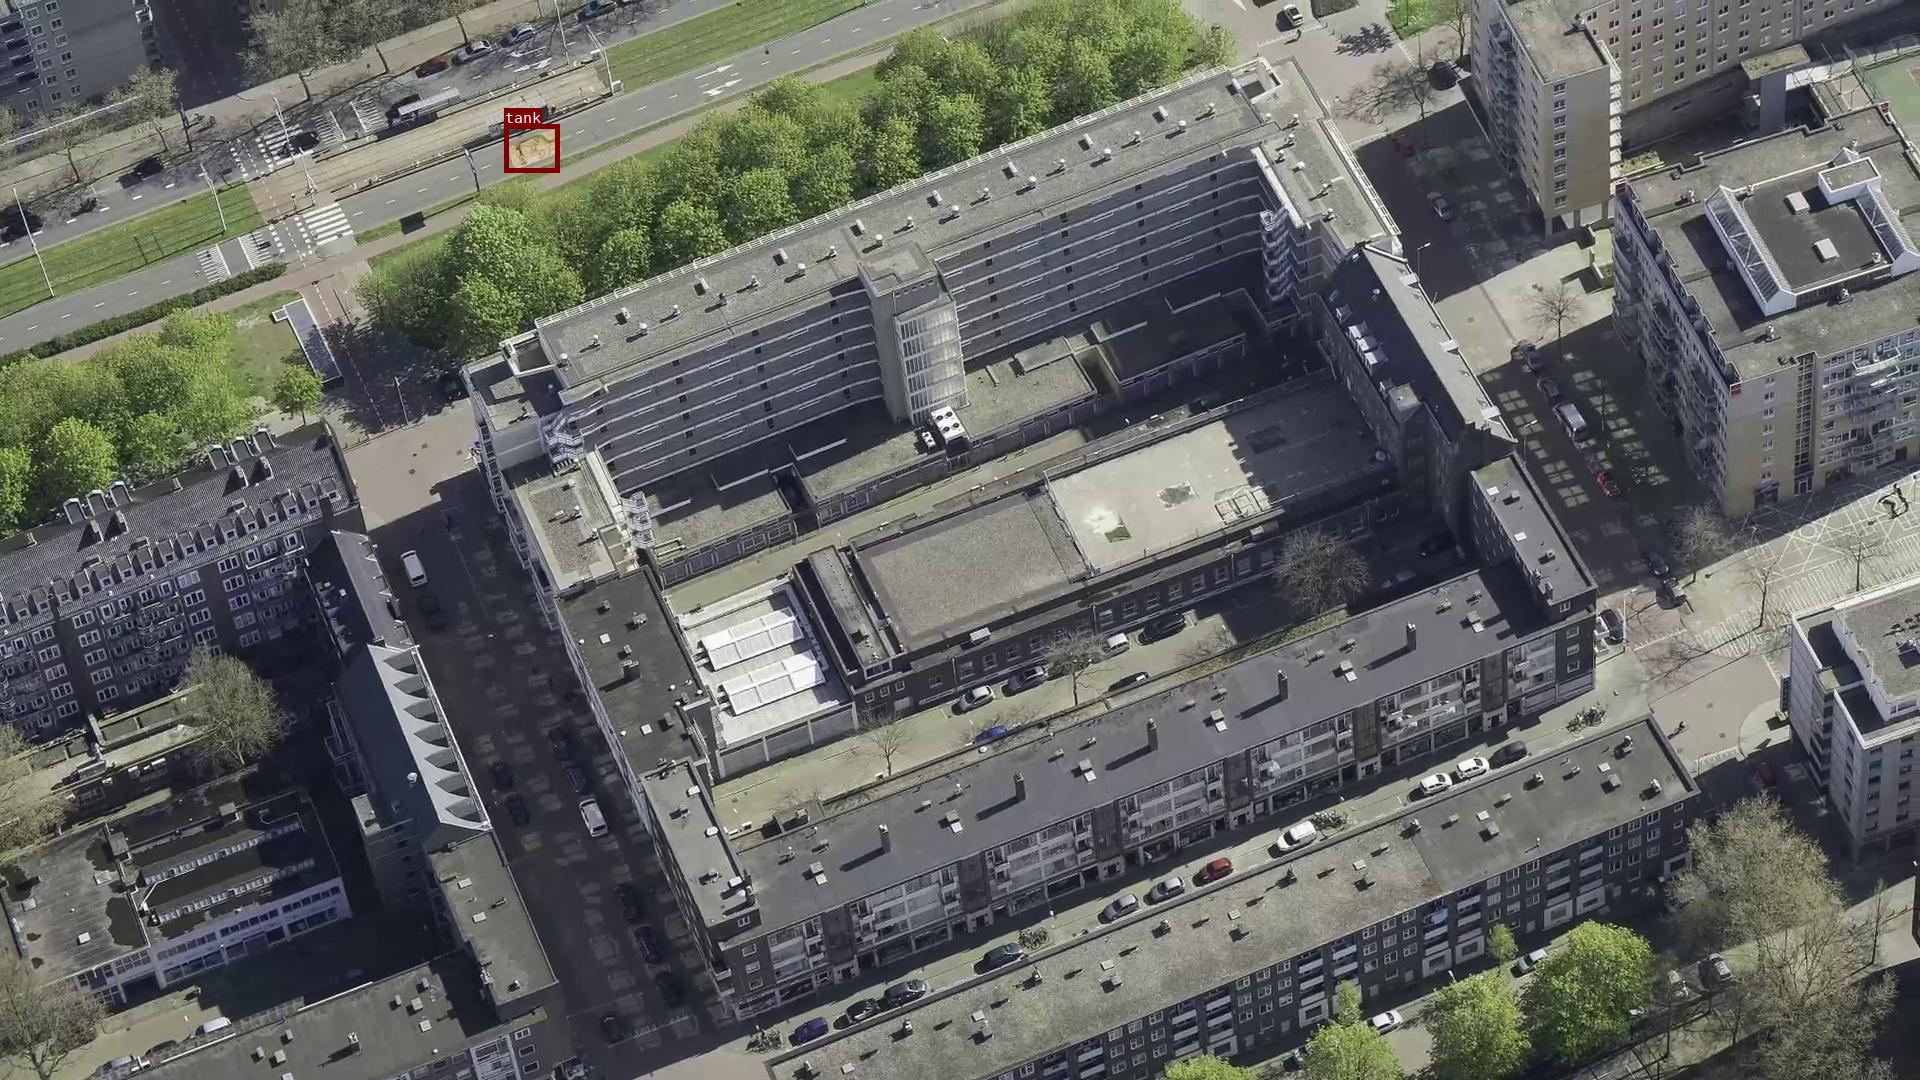tank: (504, 124, 559, 171)
